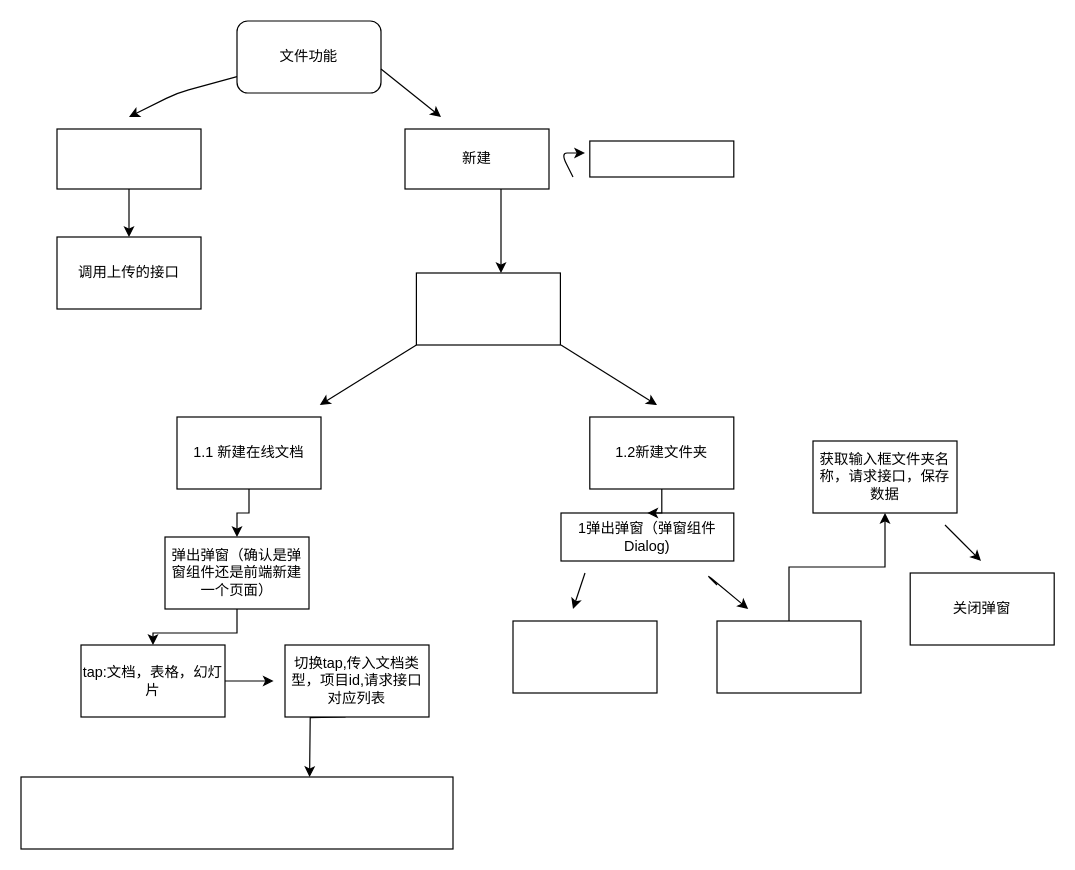
This 1075x870 diagram has some shape labels left out. Each missing label, with the centre of its shape:
"1调用PoperButton组件，渲染新建类型" belongs at pixel 487 308.
"上传" belongs at pixel 128 158.
"列表数组中第一项总是渲染新建空白文稿项，点击新建空白文稿，调用端的wps文档进行预览和编辑" belongs at pixel 236 812.
"取消关闭弹窗" belongs at pixel 584 656.
"打开弹窗后重新点新建是否关闭？" belongs at pixel 661 158.
"确认" belongs at pixel 788 656.
